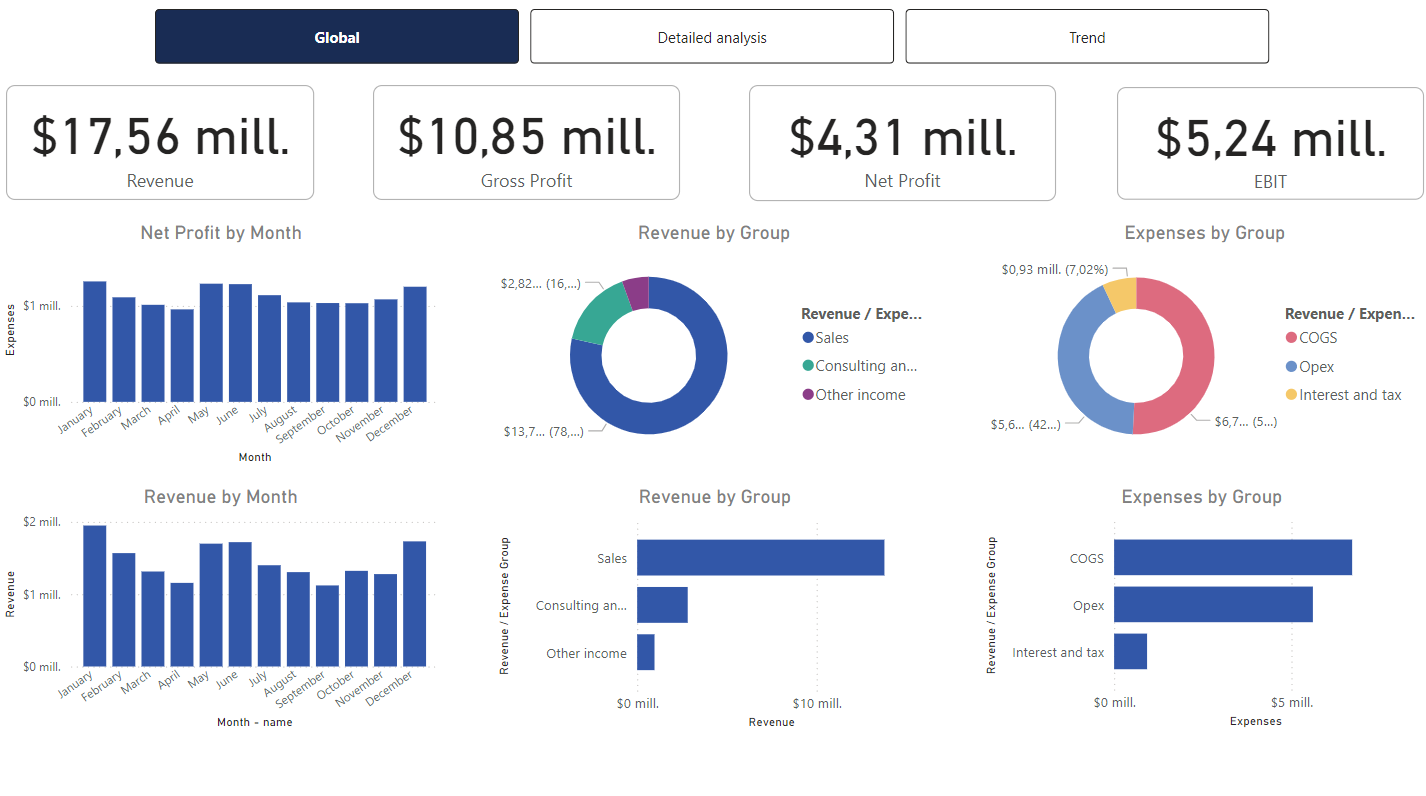

The page's visual inventory and layout, read from the dashboard file:
{"tool":"powerbi","page":{"name":"Global","canvas":[1280,720],"ordinal":0},"visuals":[{"type":"card","title":"Revenue card","fields":{"Values":["revenue_expense.Revenue"]},"box":[7.4,81.4,275.9,102.5],"z":0},{"type":"card","title":"Gross Profit card","fields":{"Values":["revenue_expense.Gross Profit"]},"box":[336.1,81.4,274.8,102.5],"z":1000},{"type":"card","title":"Net Profit card","fields":{"Values":["revenue_expense.Net Profit"]},"box":[672.2,81.4,274.8,103.6],"z":2000},{"type":"card","title":"EBIT card","fields":{"Values":["revenue_expense.EBIT"]},"box":[1002,83.5,274.8,101.5],"z":3000},{"type":"columnChart","title":"Revenue by Month","fields":{"Category":["revenue_expense.Month - name"],"Y":["revenue_expense.Revenue"]},"box":[0,439.5,399.1,222.5],"z":4000},{"type":"columnChart","title":"Net Profit by Month","fields":{"Category":["revenue_expense.Month - name"],"Y":["revenue_expense.Expenses"]},"box":[0,202.9,399.5,222],"z":5000},{"type":"barChart","title":"Revenue by Group","fields":{"Y":["revenue_expense.Revenue"],"Category":["revenue_expense.Revenue / Expense Group"]},"box":[442.3,439.5,399.1,222.5],"z":6000},{"type":"barChart","title":"Expenses by Group","fields":{"Y":["revenue_expense.Expenses"],"Category":["revenue_expense.Revenue / Expense Group"]},"box":[878.2,439.5,399.1,221.6],"z":7000},{"type":"donutChart","title":"Revenue by Group","fields":{"Y":["revenue_expense.Revenue"],"Category":["revenue_expense.Revenue / Expense Group"]},"box":[441.8,202.9,399.5,222],"z":8000},{"type":"donutChart","title":"Expenses by Group","fields":{"Y":["revenue_expense.Expenses"],"Category":["revenue_expense.Revenue / Expense Group"]},"box":[880.9,203.2,399.1,222.5],"z":9000},{"type":"pageNavigator","title":"Main navigator","box":[140.6,13.7,1001,49.7],"z":11000}]}

Visuals, with their boxes in screenshot pixels (x1, y1, x2, y2), scaled from the page's 1280x720 canvas onto the 1426x796 screenshot:
"Revenue card" card: rect(8, 90, 316, 203)
"Gross Profit card" card: rect(374, 90, 681, 203)
"Net Profit card" card: rect(749, 90, 1055, 205)
"EBIT card" card: rect(1116, 92, 1422, 205)
"Revenue by Month" columnChart: rect(0, 486, 445, 732)
"Net Profit by Month" columnChart: rect(0, 224, 445, 470)
"Revenue by Group" barChart: rect(493, 486, 937, 732)
"Expenses by Group" barChart: rect(978, 486, 1423, 731)
"Revenue by Group" donutChart: rect(492, 224, 937, 470)
"Expenses by Group" donutChart: rect(981, 225, 1425, 471)
"Main navigator" pageNavigator: rect(157, 15, 1272, 70)
